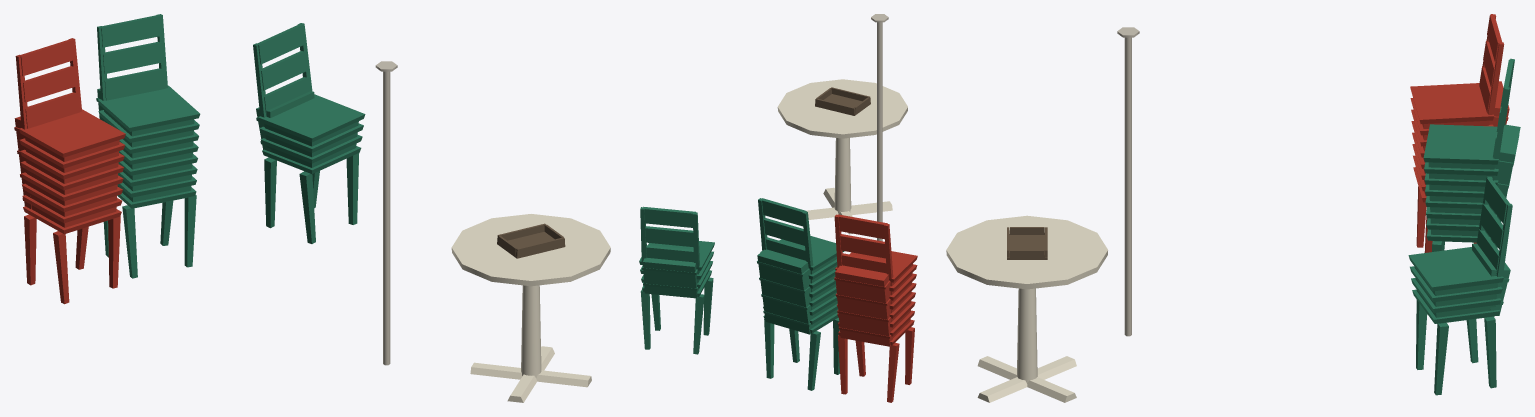
Rendered from BoTri_Dem3.glb.
The picture shows the model from 3 angles, left to right: view 1: azimuth 30°, elevation 25°; view 2: azimuth 150°, elevation 25°; view 3: azimuth 270°, elevation 25°; orthographic projection. The views are drawn at different scales.
Parts seen in each view (by area): view 1: top_backrest (×3), table_top, stack_body (×3), seat_edge_8 (×2), seat_edge_4 (×3), leg_3 (×3), pole, leg_4 (×3), seat_edge_3 (×3), seat_edge_2 (×3), seat_edge_1 (×3), column (+8 smaller); view 2: nested_backs (×3), top_backrest (×3), table_top, leg_1 (×3), leg_2 (×3), seat_edge_8 (×2), leg_3 (×3), pole, column, stack_body (×2), top_backrest_post_L (×3), top_backrest_post_R (×3) (+7 smaller); view 3: table_top, seat_edge_8 (×2), stack_body (×2), top_backrest (×2), seat_edge_4, pole, column, nested_backs (×2), leg_4, leg_2, seat_edge_3, seat_edge_2 (+8 smaller).
Part boxes in pixels (x1,y1,x2,y2): top_backrest (×3): (19,15,310,128); table_top: (451,214,610,286); stack_body (×3): (25,109,358,227); seat_edge_8 (×2): (19,85,200,157); seat_edge_4 (×3): (21,94,365,201); leg_3 (×3): (53,171,315,304); pole: (383,71,390,365); leg_4 (×3): (108,153,359,288); seat_edge_3 (×3): (22,123,363,212); seat_edge_2 (×3): (22,135,362,223); seat_edge_1 (×3): (23,146,361,234); column: (521,285,541,378); nested_backs (×3): (643,249,892,346); top_backrest (×3): (643,198,887,273); table_top: (777,79,907,138); leg_1 (×3): (693,294,899,402); leg_2 (×3): (640,289,847,394); seat_edge_8 (×2): (760,236,917,282); leg_3 (×3): (703,277,914,384); pole: (877,22,882,241); column: (834,138,851,213); stack_body (×2): (810,256,912,337); top_backrest_post_L (×3): (692,211,893,279); top_backrest_post_R (×3): (640,198,842,268); table_top: (946,215,1107,289); seat_edge_8 (×2): (1410,83,1498,164); stack_body (×2): (1414,162,1497,323); top_backrest (×2): (1477,15,1509,275); seat_edge_4: (1408,247,1503,291); pole: (1124,37,1131,336); column: (1017,288,1037,383); nested_backs (×2): (1472,124,1520,315); leg_4: (1434,323,1448,395); leg_2: (1484,316,1496,388); seat_edge_3: (1410,266,1502,302); seat_edge_2: (1411,278,1501,312).
Size of the model in its own units: 2.07 by 1.66 by 2.84.
